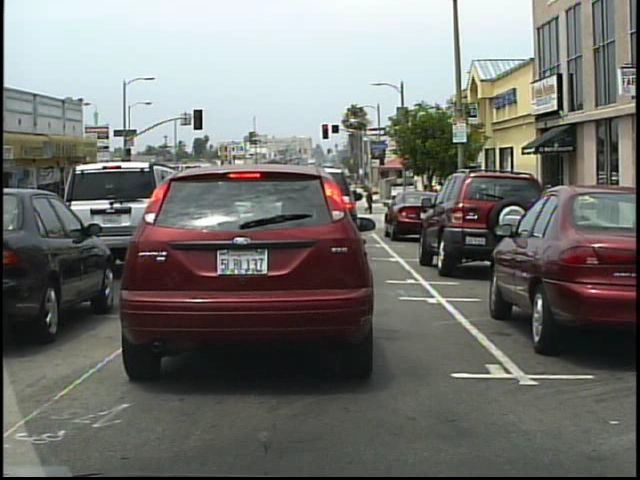person: (364, 186, 375, 218)
